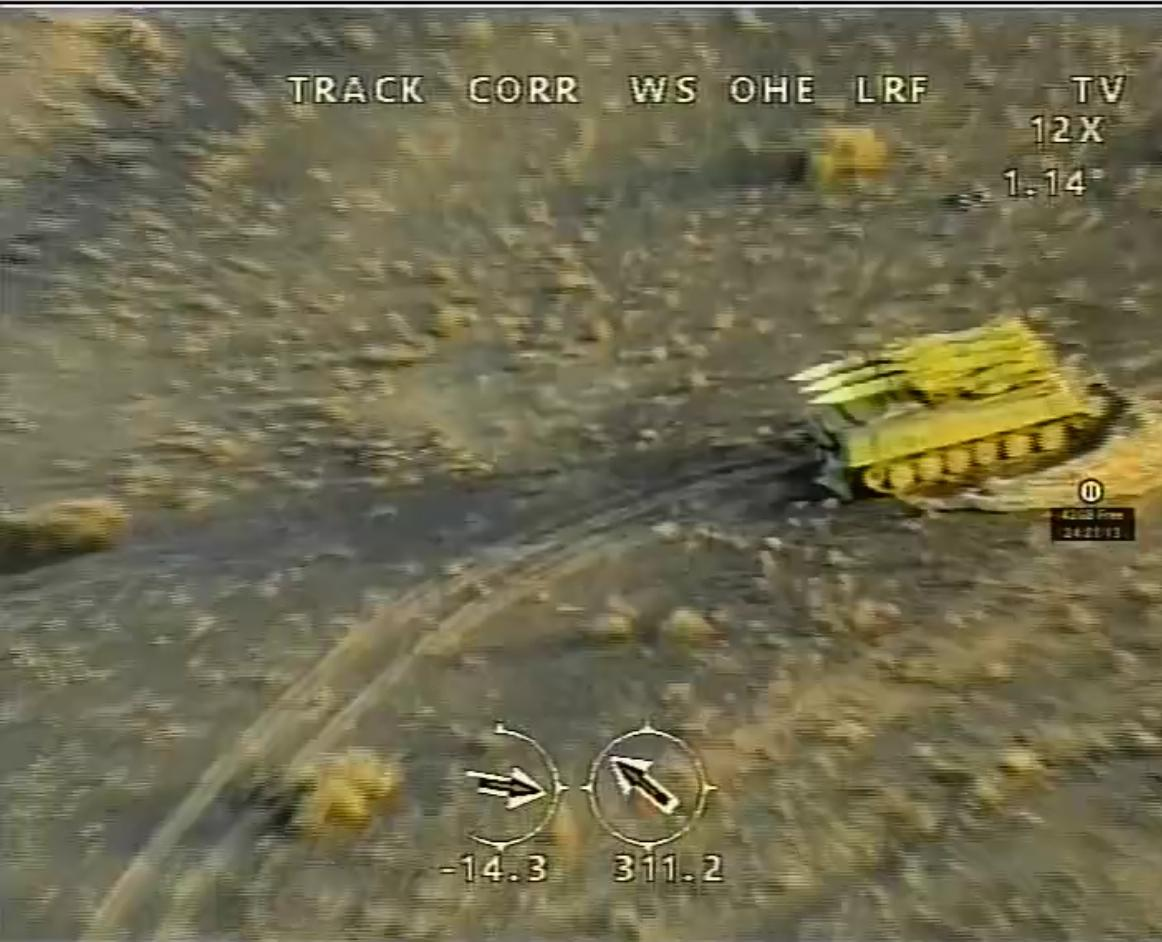armored_car: (786, 316, 1135, 508)
